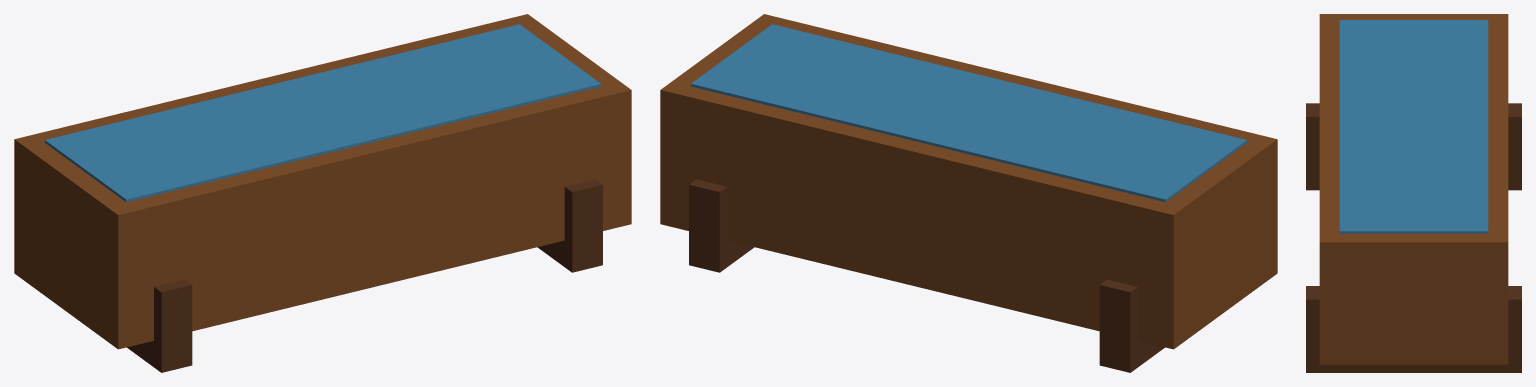
Rendered from Prop_Trough.fbx.
The picture shows the model from 3 angles, left to right: view 1: azimuth 30°, elevation 25°; view 2: azimuth 150°, elevation 25°; view 3: azimuth 270°, elevation 25°; orthographic projection. The views are drawn at different scales.
Parts seen in each view (by area): view 1: Prop_Trough; view 2: Prop_Trough; view 3: Prop_Trough.
Part boxes in pixels (x1,y1,x2,y2): Prop_Trough: (14,14,631,372); Prop_Trough: (660,14,1277,372); Prop_Trough: (1306,14,1521,372).
Size of the model in its own units: 2 by 0.61 by 0.8.
